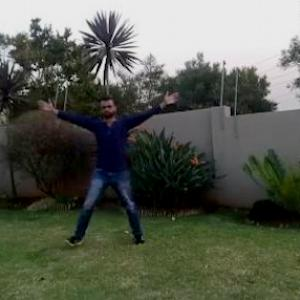takeoff: (47, 89, 191, 247)
